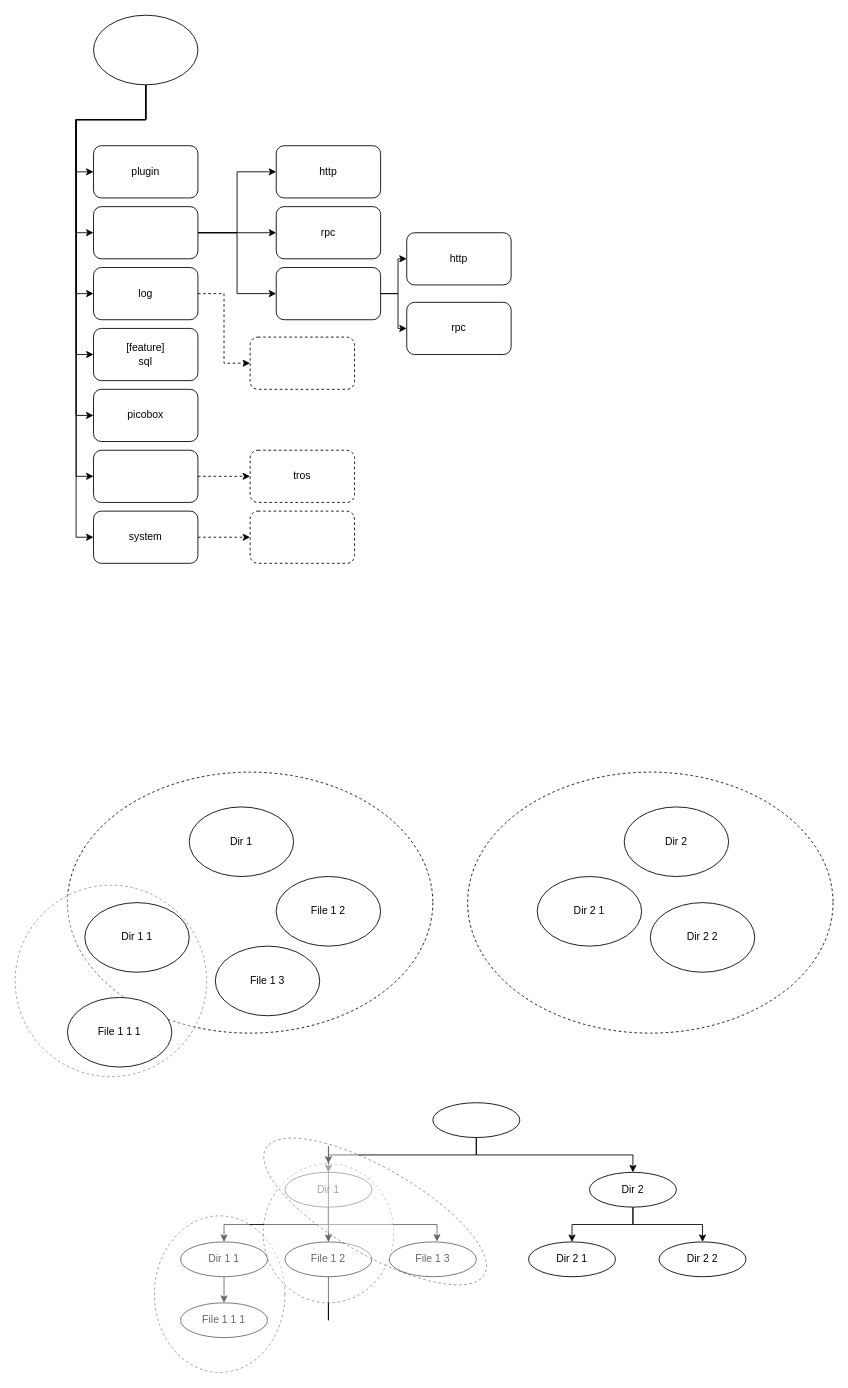
This 848x1388 diagram has some shape labels left out. Each missing label, with the centre of its shape:
"[feature] middlewares" goes at point 328,293.
"Rem F111" goes at point 219,1293.
"Rem F12" goes at point 328,1233.
"Root" goes at point 476,1120.
"SDK" goes at point 145,49.
"tarantool module" goes at point 302,536.
"tarolog" goes at point 302,362.
"tokio" goes at point 145,475.
"transport" goes at point 145,232.
